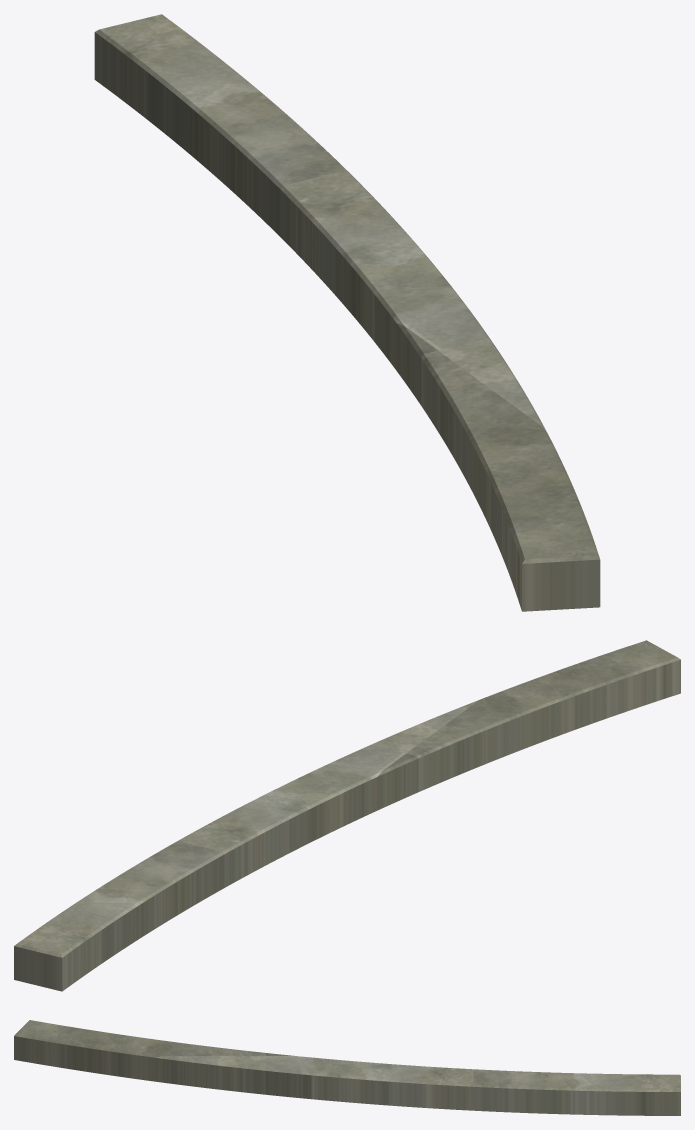
Rendered from f03-s-stone-pool-trim-3m-showcase.glb.
3 renders of one model, top to bottom at view 1: azimuth 30°, elevation 25°; view 2: azimuth 150°, elevation 25°; view 3: azimuth 270°, elevation 25°, orthographic. The views are drawn at different scales.
Visible parts, largest first — view 1: f03-s-stone-pool-trim-3m-showcase; view 2: f03-s-stone-pool-trim-3m-showcase; view 3: f03-s-stone-pool-trim-3m-showcase.
Part boxes in pixels (x1,y1,x2,y2): f03-s-stone-pool-trim-3m-showcase: (94,14,600,611); f03-s-stone-pool-trim-3m-showcase: (14,640,680,991); f03-s-stone-pool-trim-3m-showcase: (14,1020,680,1115).
Bounding box in the file's own units: 0.8142 × 0.135 × 3.21.
1 material, 1 textured.
